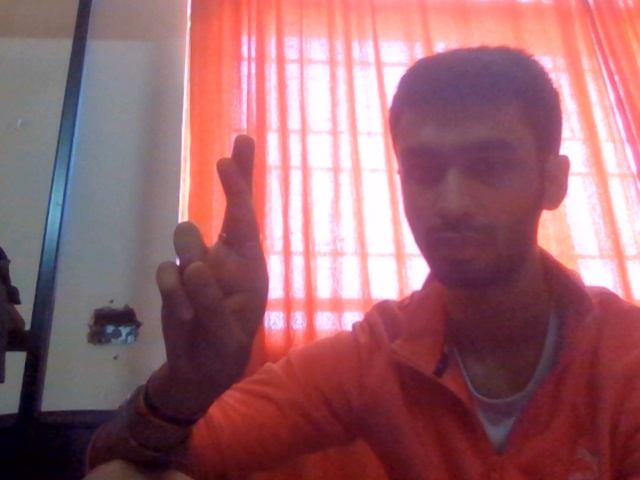R: (131, 112, 328, 424)
